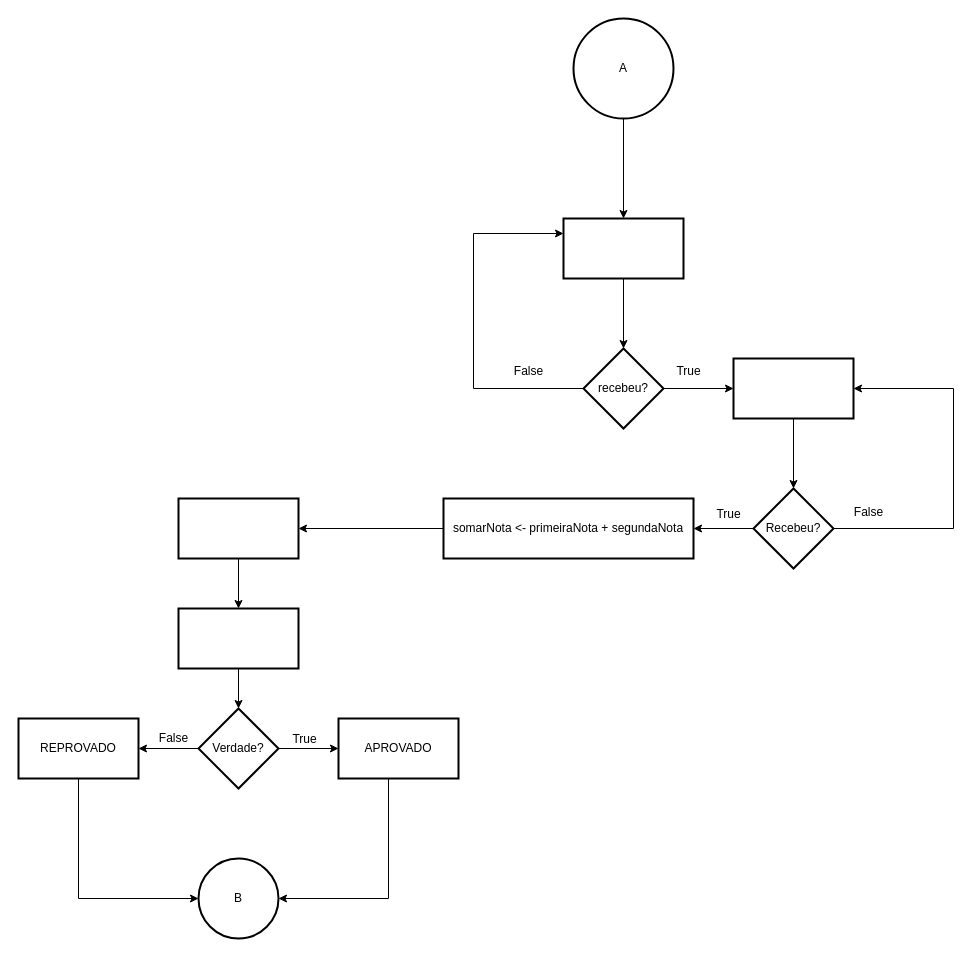
Some shapes in this 979 by 956 pixel diagram are drawn without their labels. Each missing label, with the centre of its shape:
"Receber Primeira Nota" belongs at (623,248).
"Receber Segunda Nota" belongs at (793,388).
"Saida: somarNota" belongs at (238,528).
"somarNota <= 60" belongs at (238,638).
